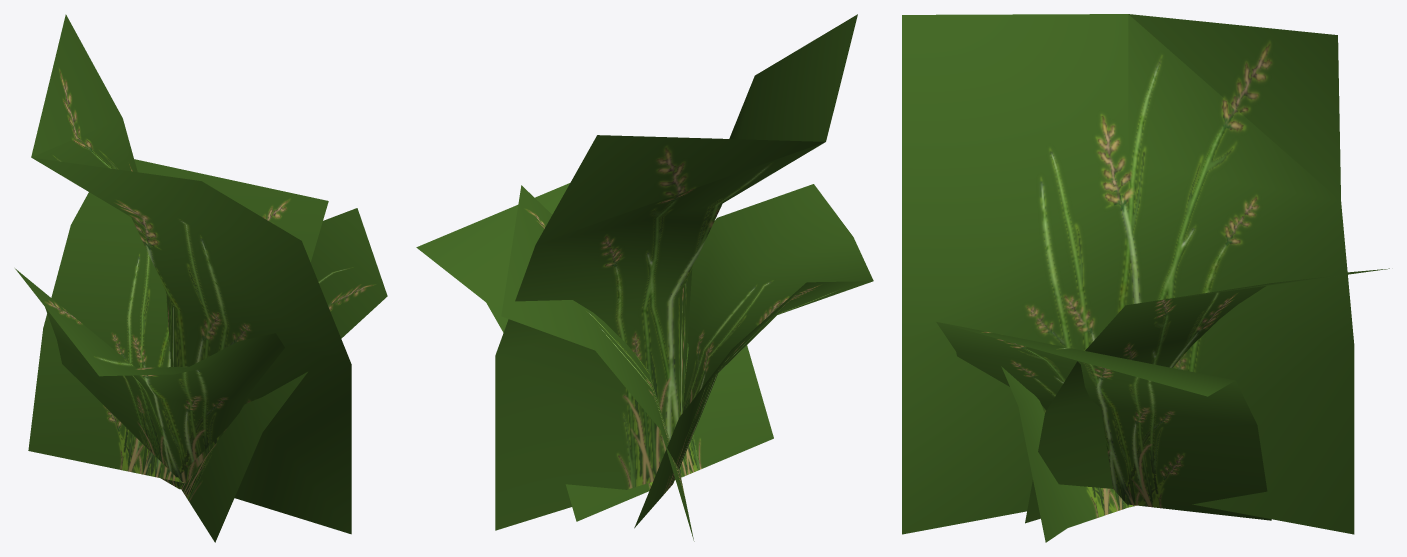
Rendered from leafplant3_lod0.fbx.
3 views of the same model, side by side, from view 1: azimuth 30°, elevation 25°; view 2: azimuth 150°, elevation 25°; view 3: azimuth 270°, elevation 25° (orthographic). The views are drawn at different scales.
Parts seen in each view (by area): view 1: Mesh Object; view 2: Mesh Object; view 3: Mesh Object.
Part boxes in pixels (box(x1,y1,x2,y2)): Mesh Object: box(15, 14, 387, 542); Mesh Object: box(416, 14, 873, 541); Mesh Object: box(902, 14, 1389, 542).
Size of the model in its own units: 1.2 by 1.3 by 1.25.
